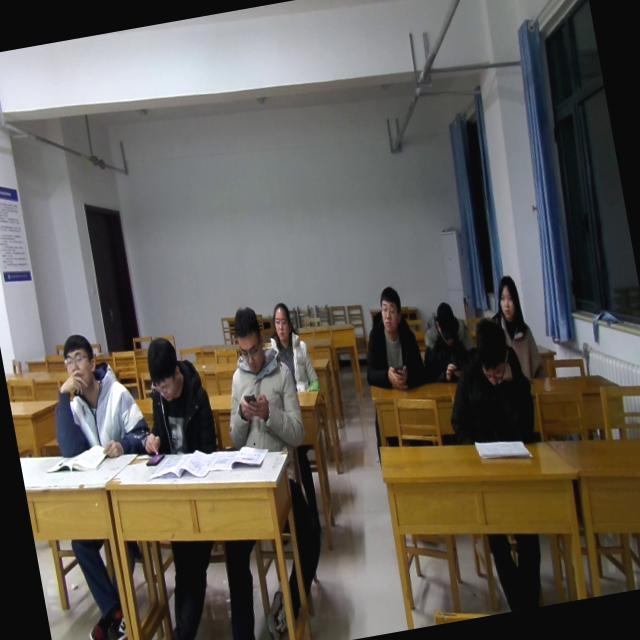bow: (434, 308, 540, 455)
down: (466, 312, 516, 391), (138, 328, 186, 408), (226, 299, 272, 380), (428, 294, 462, 354)
lookup: (55, 325, 102, 392), (369, 275, 405, 336), (488, 269, 524, 330), (266, 294, 296, 348)
sit: (204, 292, 310, 459), (37, 324, 151, 467), (124, 325, 221, 462), (351, 280, 428, 399), (482, 269, 548, 388), (413, 294, 487, 386), (264, 295, 322, 400)
